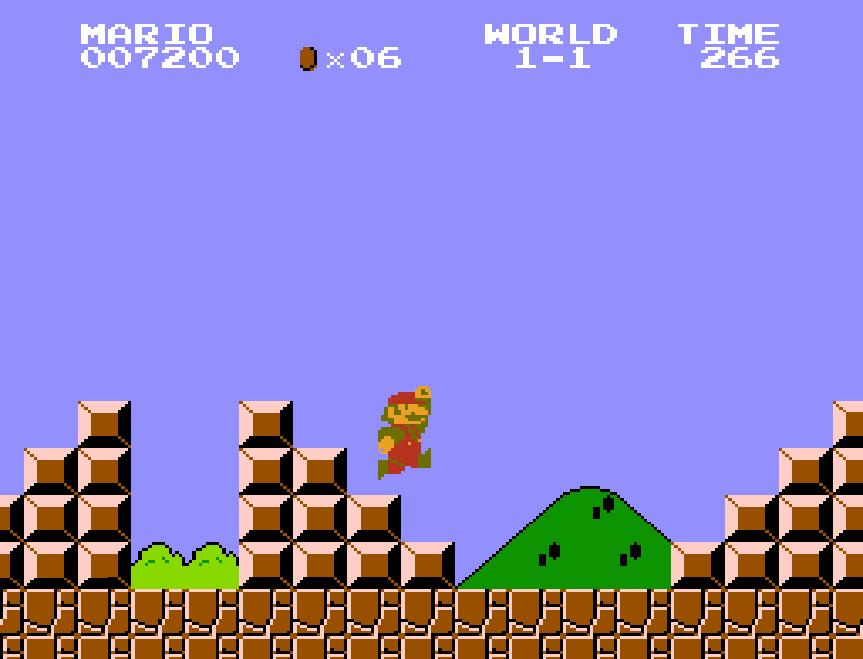big_mario: (376, 384, 434, 482)
